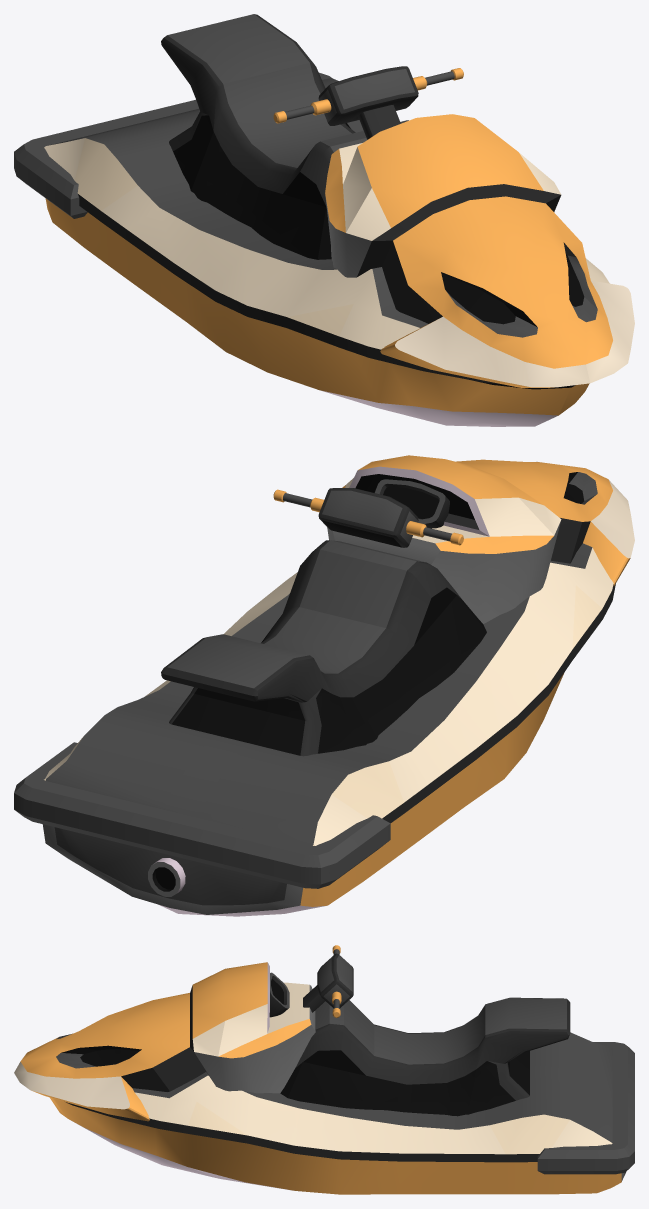
The model's file is Boat_3.fbx.
3 views of the same model, one above another, from view 1: azimuth 30°, elevation 25°; view 2: azimuth 150°, elevation 25°; view 3: azimuth 270°, elevation 25° (orthographic). The views are drawn at different scales.
Visible parts, largest first — view 1: Boat_3; view 2: Boat_3; view 3: Boat_3.
Part boxes in pixels (x1,y1,x2,y2): Boat_3: [14, 14, 634, 426]; Boat_3: [14, 455, 634, 916]; Boat_3: [14, 945, 634, 1194].
Bounding box in the file's own units: 1.13 × 1.03 × 2.61.
